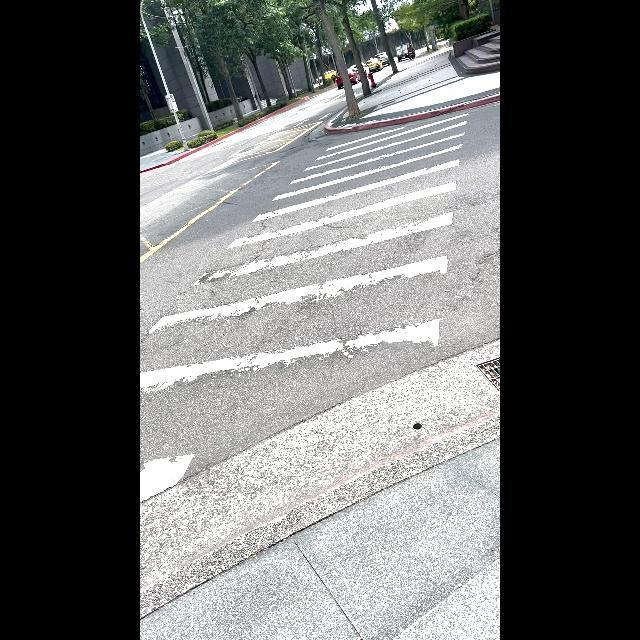sidewalk: (140, 113, 468, 503)
